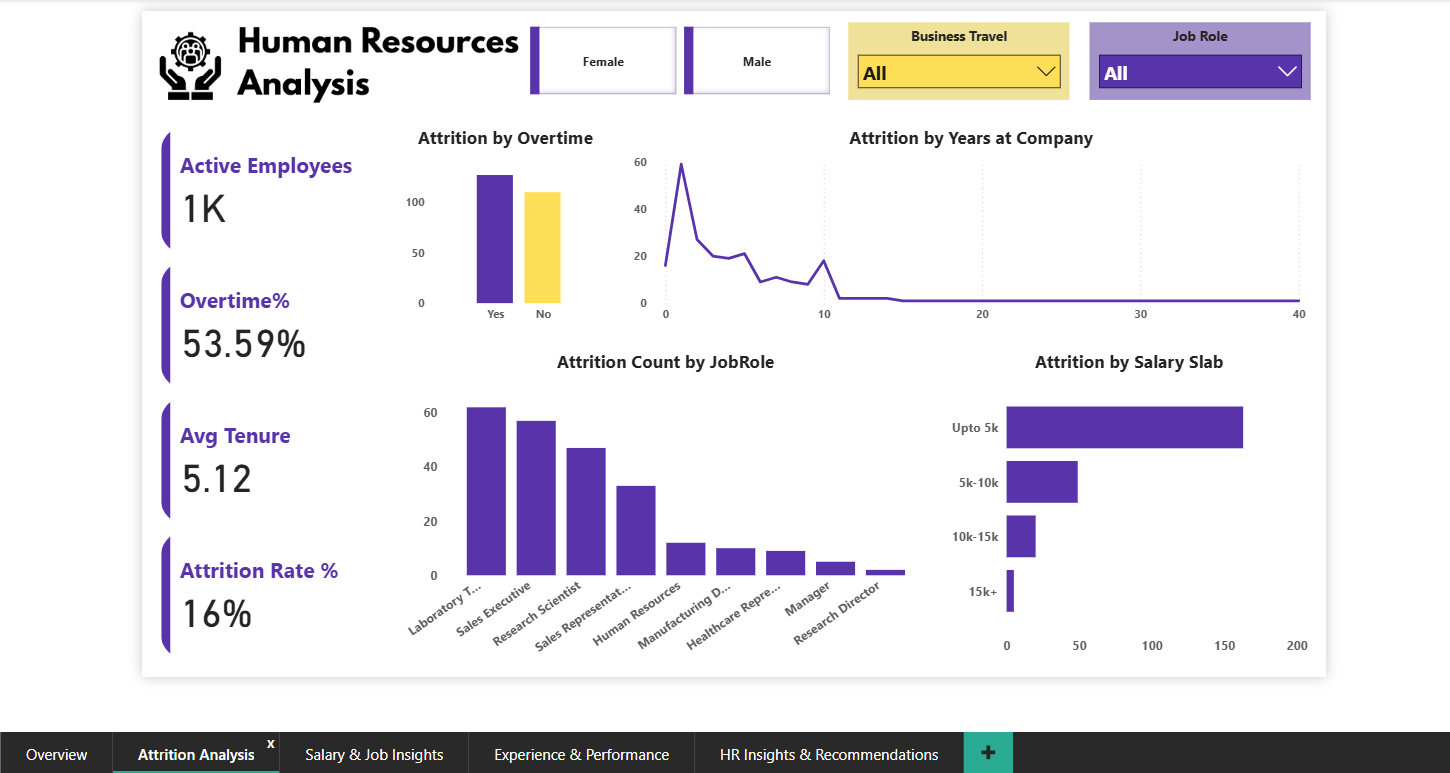

This screenshot's page, from the dashboard's own definition file:
{"tool":"powerbi","page":{"name":"Attrition Analysis","canvas":[1280,720],"ordinal":1},"visuals":[{"type":"cardVisual","fields":{"Data":["Performance.Active Employees","Performance.Attrition Overtime %","Performance.Avg Tenure (Attrition)","Performance.Attrition Rate %"]},"box":[15.9,118.3,226.5,587.2],"z":0},{"type":"clusteredColumnChart","title":"Attrition by Overtime","fields":{"Y":["Performance.Attrition Count"],"Category":["Performance.OverTime"]},"box":[279.9,118.3,226.5,226.5],"z":1000},{"type":"barChart","title":"Attrition by Salary Slab","fields":{"Category":["Salary_Details.SalarySlab"],"Y":["Performance.Attrition Count"]},"box":[868.5,360.7,396.8,344.8],"z":2000},{"type":"clusteredColumnChart","fields":{"Category":["Job_Details.JobRole"],"Y":["Performance.Attrition Count"]},"box":[279.9,360.7,572.8,344.8],"z":3000},{"type":"lineChart","title":"Attrition by Years at Company","fields":{"Category":["Performance.YearsAtCompany"],"Y":["Performance.Attrition Count"]},"box":[526.6,118.3,738.7,226.5],"z":4000},{"type":"slicer","title":"Job Role","fields":{"Values":["Job_Details.JobRole"]},"box":[1024.4,11.5,239.5,83.7],"z":5000},{"type":"slicer","title":"Business Travel","fields":{"Values":["Job_Details.BusinessTravel"]},"box":[763.2,11.5,239.5,83.7],"z":6000},{"type":"advancedSlicerVisual","fields":{"Values":["Employees.Gender"]},"box":[415.5,11.5,334.7,83.7],"z":7000}]}

Visuals, with their boxes on the page's 1280x720 design canvas (x1, y1, x2, y2). These are canvas units, not pixel positions in the 1450x773 screenshot, which may show the page scaled, cropped or inside an application window:
cardVisual - Performance.Active Employees x Performance.Attrition Overtime %: [x1=16, y1=118, x2=242, y2=706]
"Attrition by Overtime" clusteredColumnChart: [x1=280, y1=118, x2=506, y2=345]
"Attrition by Salary Slab" barChart: [x1=868, y1=361, x2=1265, y2=706]
clusteredColumnChart - Job_Details.JobRole x Performance.Attrition Count: [x1=280, y1=361, x2=853, y2=706]
"Attrition by Years at Company" lineChart: [x1=527, y1=118, x2=1265, y2=345]
"Job Role" slicer: [x1=1024, y1=12, x2=1264, y2=95]
"Business Travel" slicer: [x1=763, y1=12, x2=1003, y2=95]
advancedSlicerVisual - Employees.Gender: [x1=416, y1=12, x2=750, y2=95]
